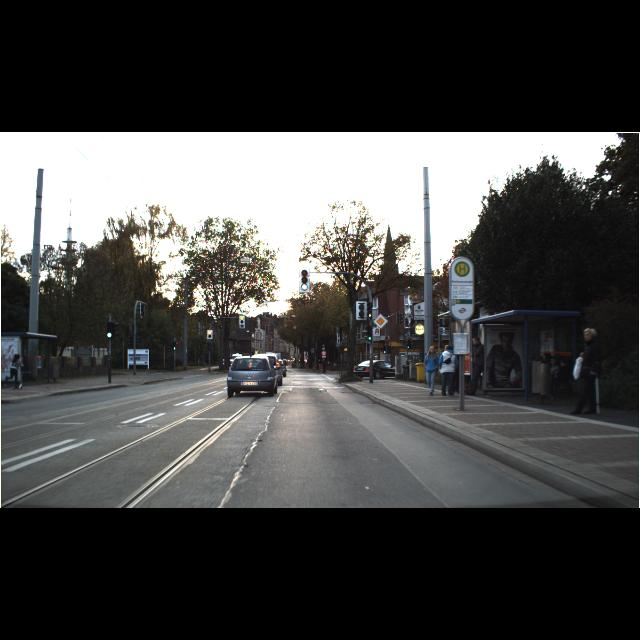other: (373, 314, 387, 328)
